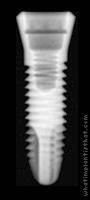Anthogyr: (16, 11, 79, 187)
